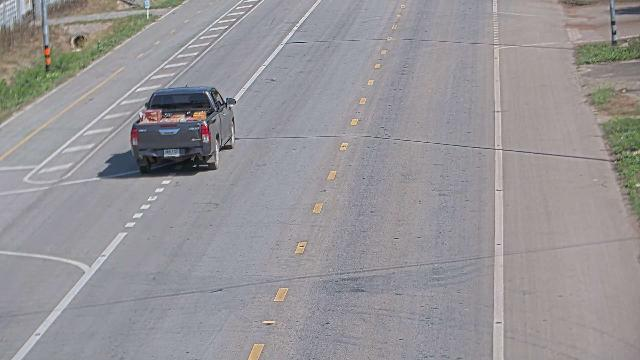pickup-truck: (129, 85, 237, 174)
